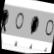correct: (28, 15, 40, 38)
no answer: (13, 10, 25, 32), (43, 18, 54, 38)
not correct: (0, 8, 11, 37)
